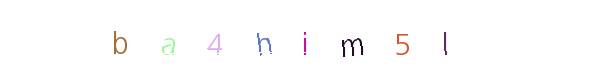4: (206, 0, 286, 80)
5: (312, 0, 392, 80)
A: (195, 0, 275, 80)
B: (129, 0, 209, 80)
H: (230, 0, 310, 80)
I: (255, 0, 335, 80)
L: (382, 0, 462, 80)
M: (264, 0, 344, 80)
